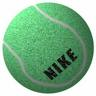tennis ball: (1, 1, 96, 96)
